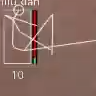hacks_1: (1, 1, 96, 80)
